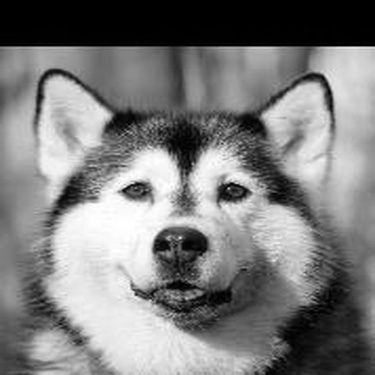dog: (10, 65, 366, 371)
